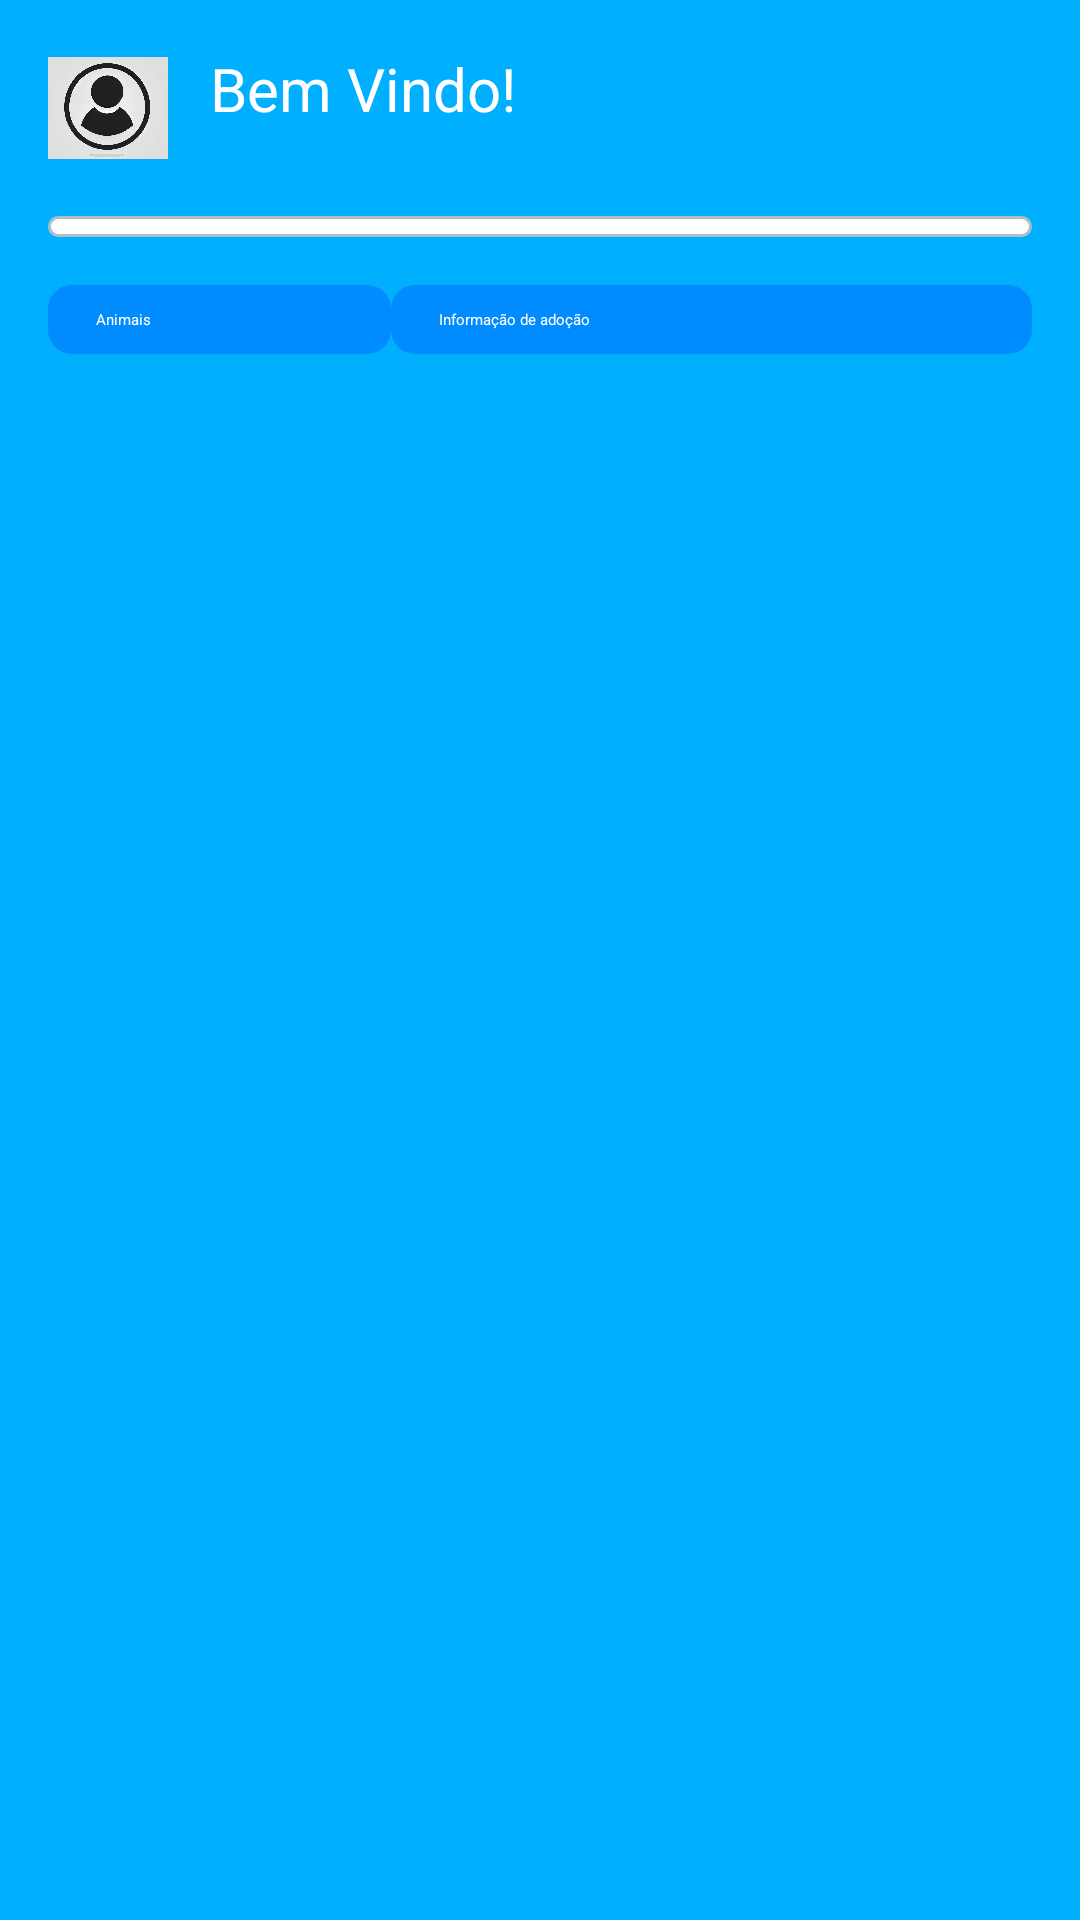

Named icons in this screenshot (1080 x 1920) and their bounding boxes, (x1, y1, x2, y2):
Ícone de Usuário: (48, 57, 168, 159)
